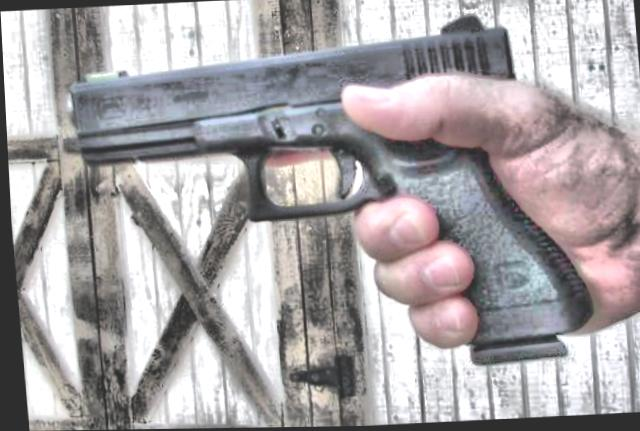pistol: (46, 12, 590, 386)
